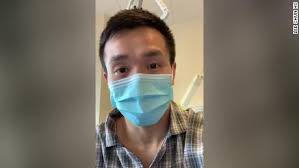mask: (104, 12, 181, 124)
